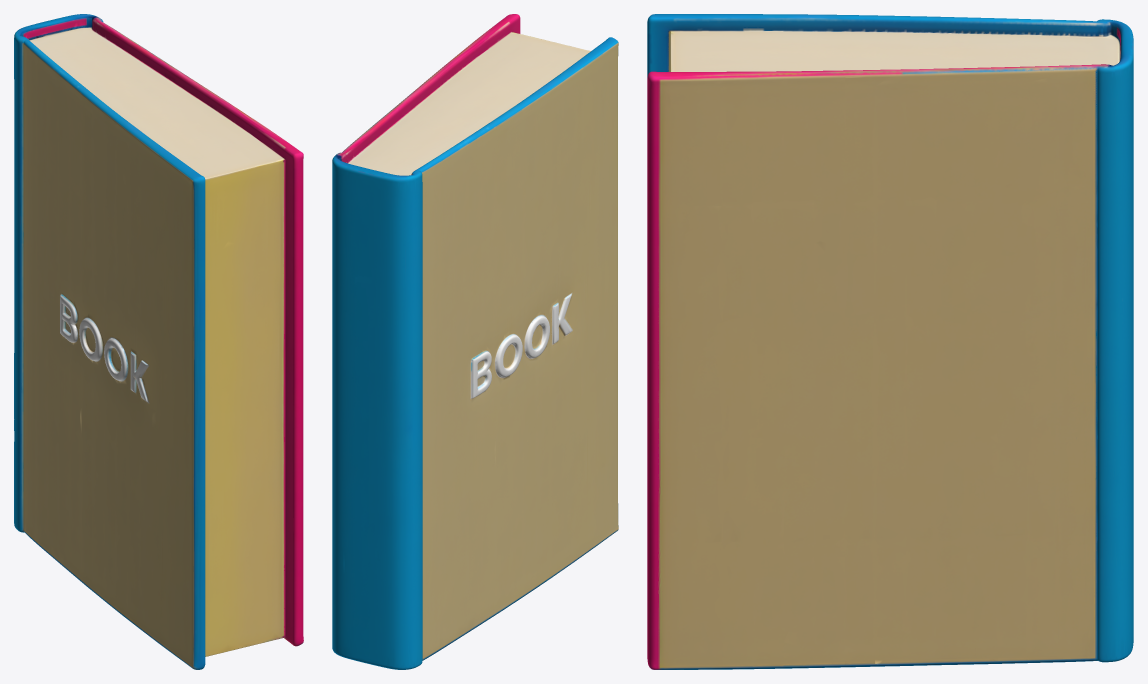
The picture shows the model from 3 angles, left to right: view 1: azimuth 30°, elevation 25°; view 2: azimuth 150°, elevation 25°; view 3: azimuth 270°, elevation 25°; orthographic projection. The views are drawn at different scales.
Visible parts, largest first — view 1: node_0; view 2: node_0; view 3: node_0.
Boxes of the visible parts, x1,y1,x2,y2 form: node_0: (14,14,303,669); node_0: (332,14,618,669); node_0: (647,14,1133,669).
Size of the model in its own units: 0.2258 by 0.9571 by 0.7084.
1 material, 1 textured.
